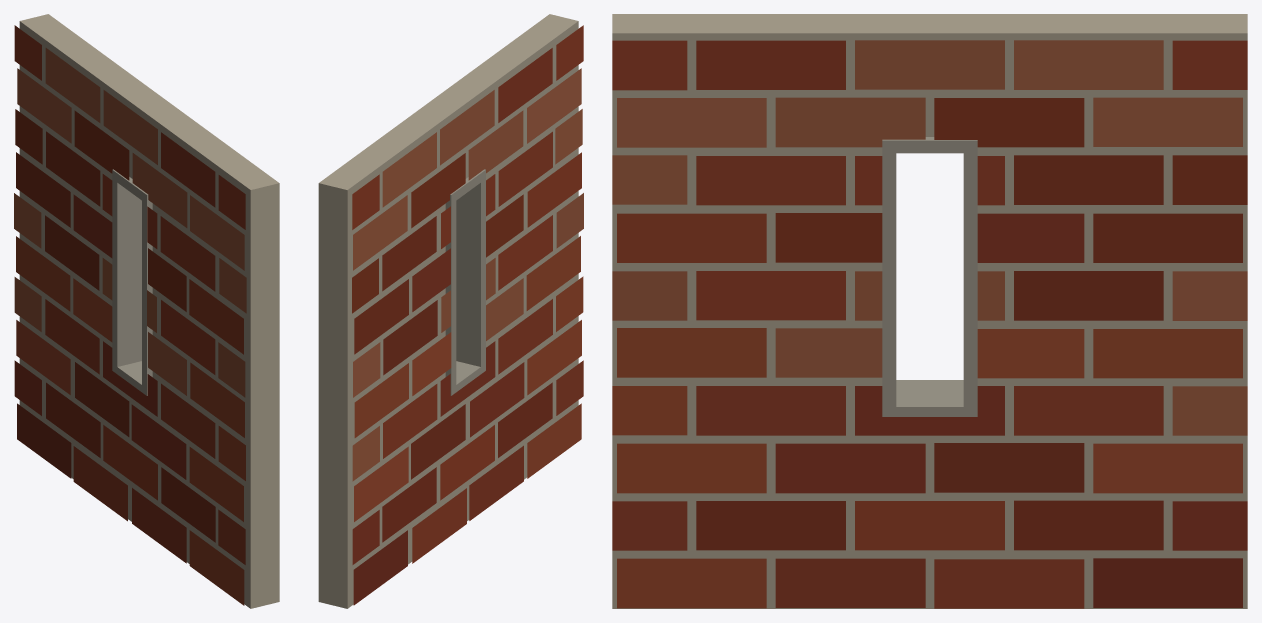
The model's file is wall-brick-window-slit.glb.
The picture shows the model from 3 angles, left to right: view 1: azimuth 30°, elevation 25°; view 2: azimuth 150°, elevation 25°; view 3: azimuth 270°, elevation 25°; orthographic projection. The views are drawn at different scales.
Parts seen in each view (by area): view 1: wall-brick-window-slit; view 2: wall-brick-window-slit; view 3: wall-brick-window-slit.
Part boxes in pixels (x1,y1,x2,y2): wall-brick-window-slit: (14, 14, 279, 608); wall-brick-window-slit: (318, 14, 583, 608); wall-brick-window-slit: (612, 14, 1247, 608).
Bounding box in the file's own units: 0.1 × 1 × 1.
